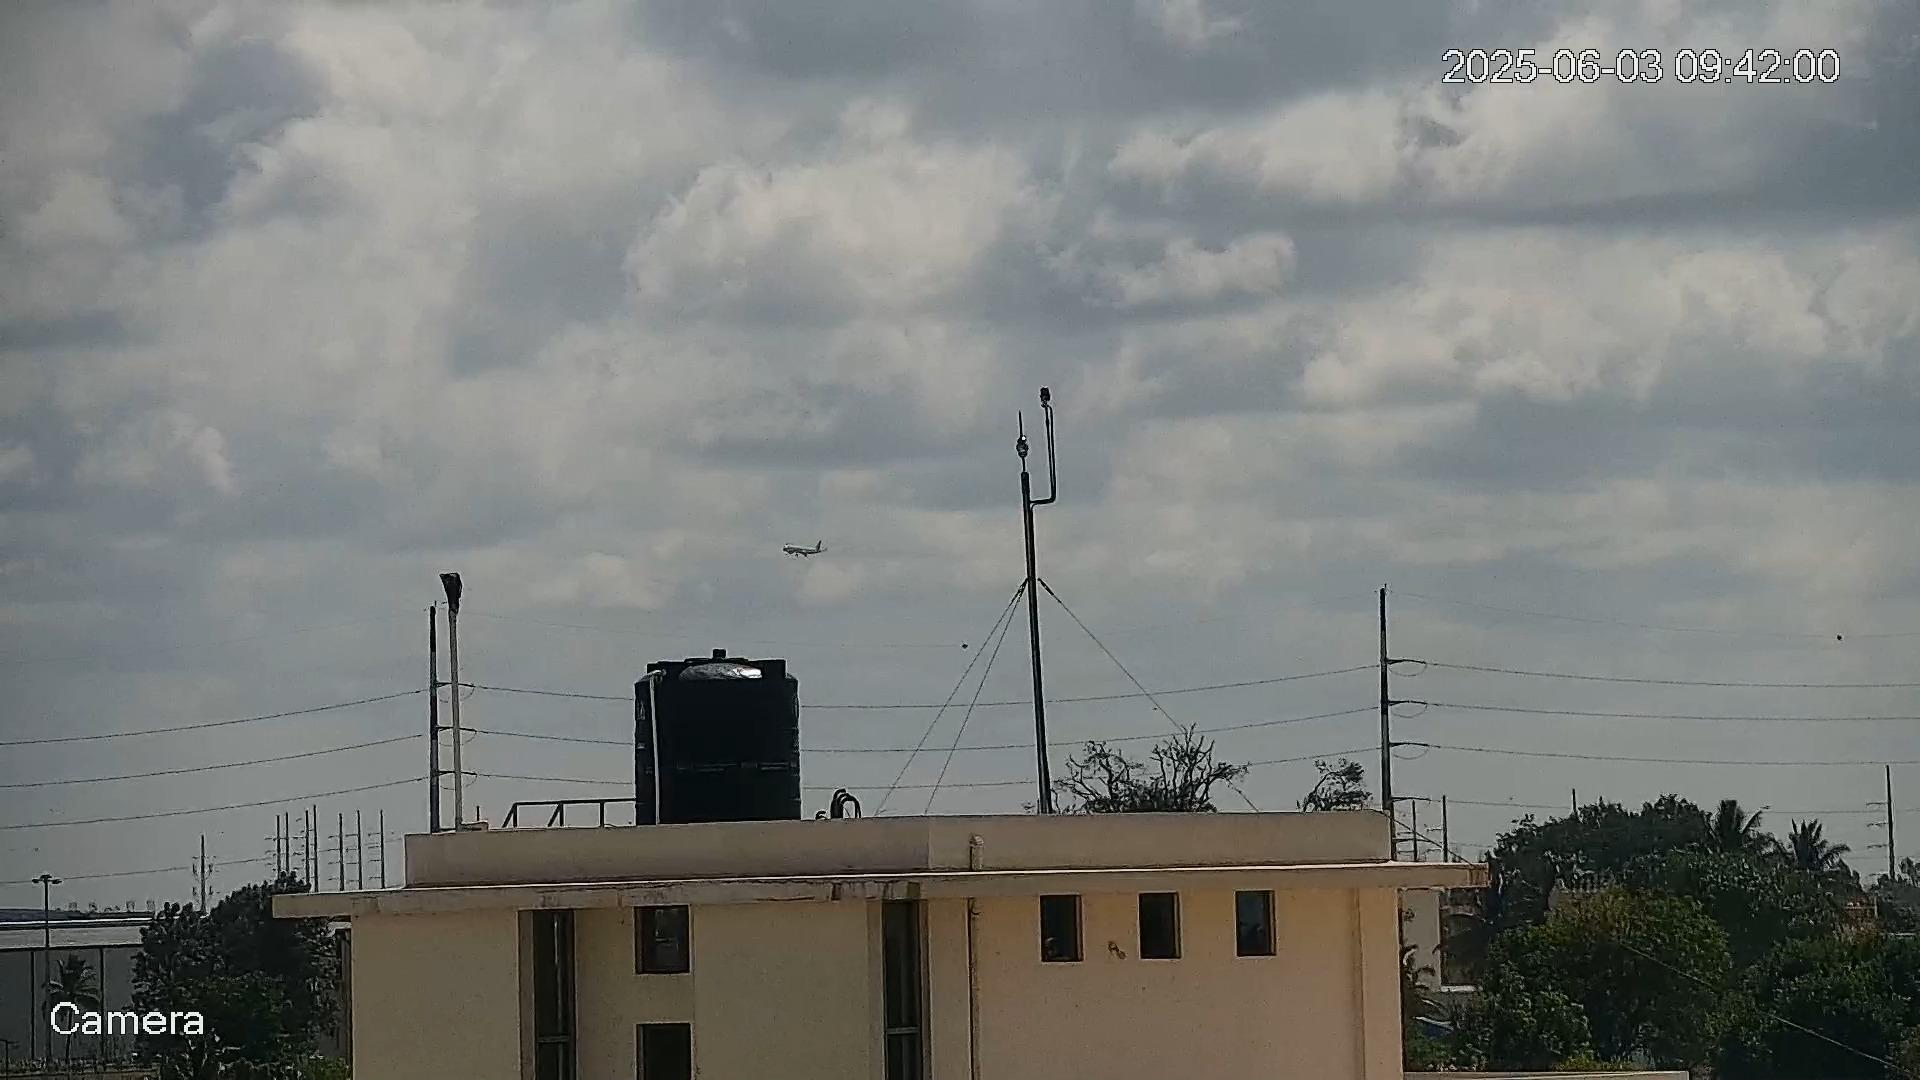Aircraft: (781, 539, 829, 558)
